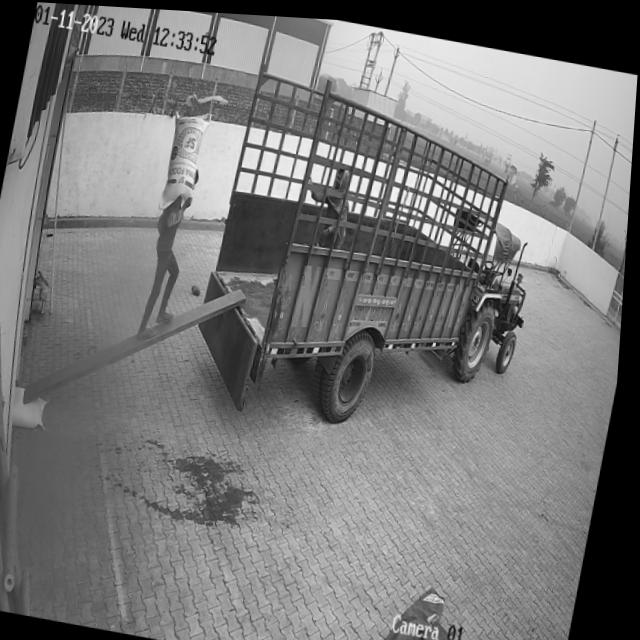sack: (161, 105, 209, 215), (13, 385, 53, 428)
